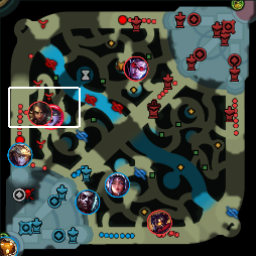bard: (1, 235, 18, 255)
ekko: (75, 189, 99, 214)
ezreal: (8, 142, 32, 166)
irelia: (105, 172, 130, 197)
lulu: (39, 104, 64, 129)
nidalee: (27, 100, 51, 126)
vayne: (123, 55, 148, 81)
viktor: (146, 209, 172, 234)
